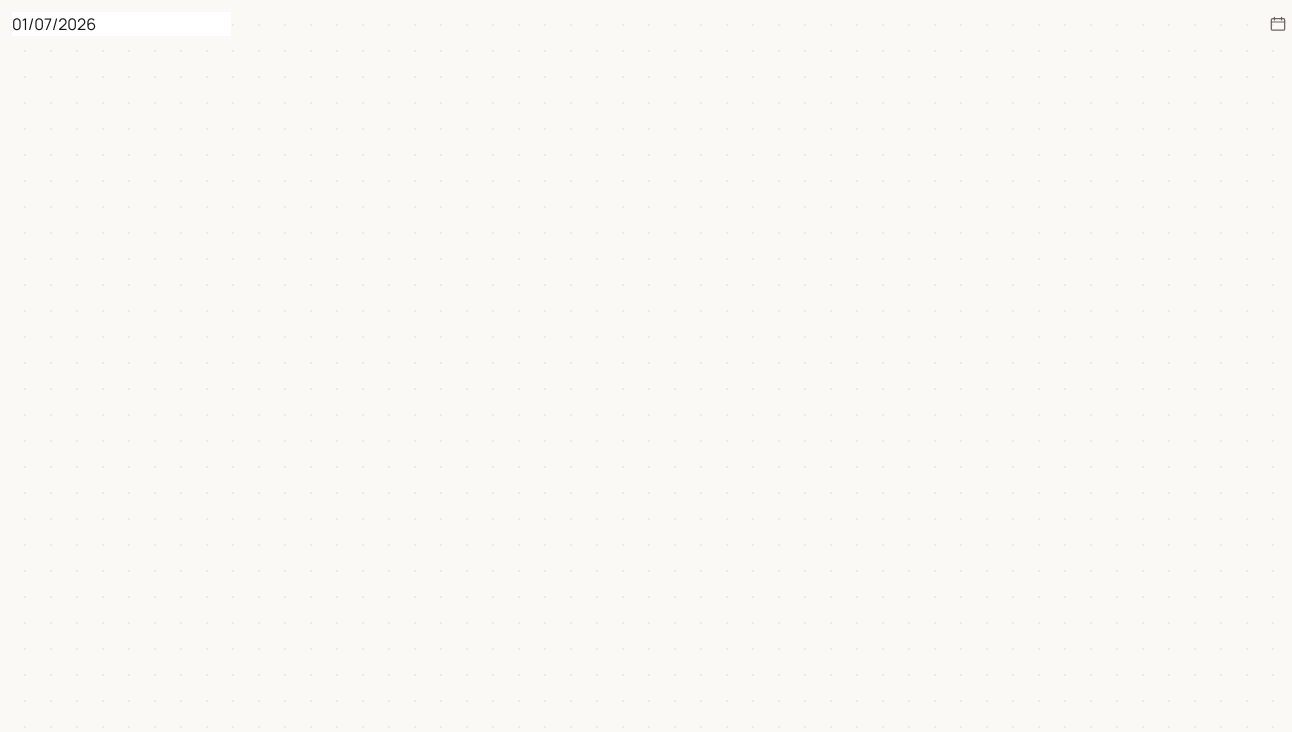
Test case: DateInput › opens a calendar popover with the picker button and commits the clicked day
The width and height of the screenshot is (1292, 732).
Click the button named "Open calendar" at (1278, 24), box left=1270, top=16, right=1286, bottom=32
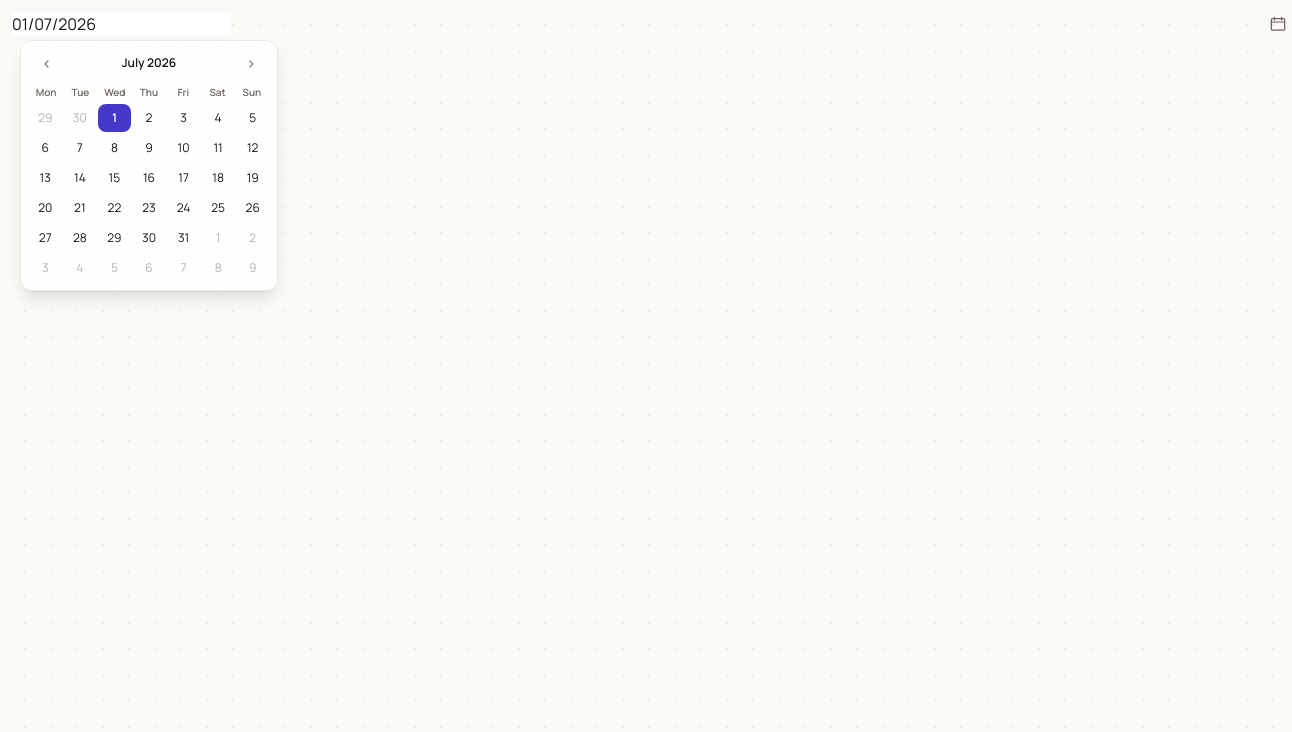
Click the button named "July 15, 2026" at (114, 178), box left=98, top=164, right=131, bottom=192
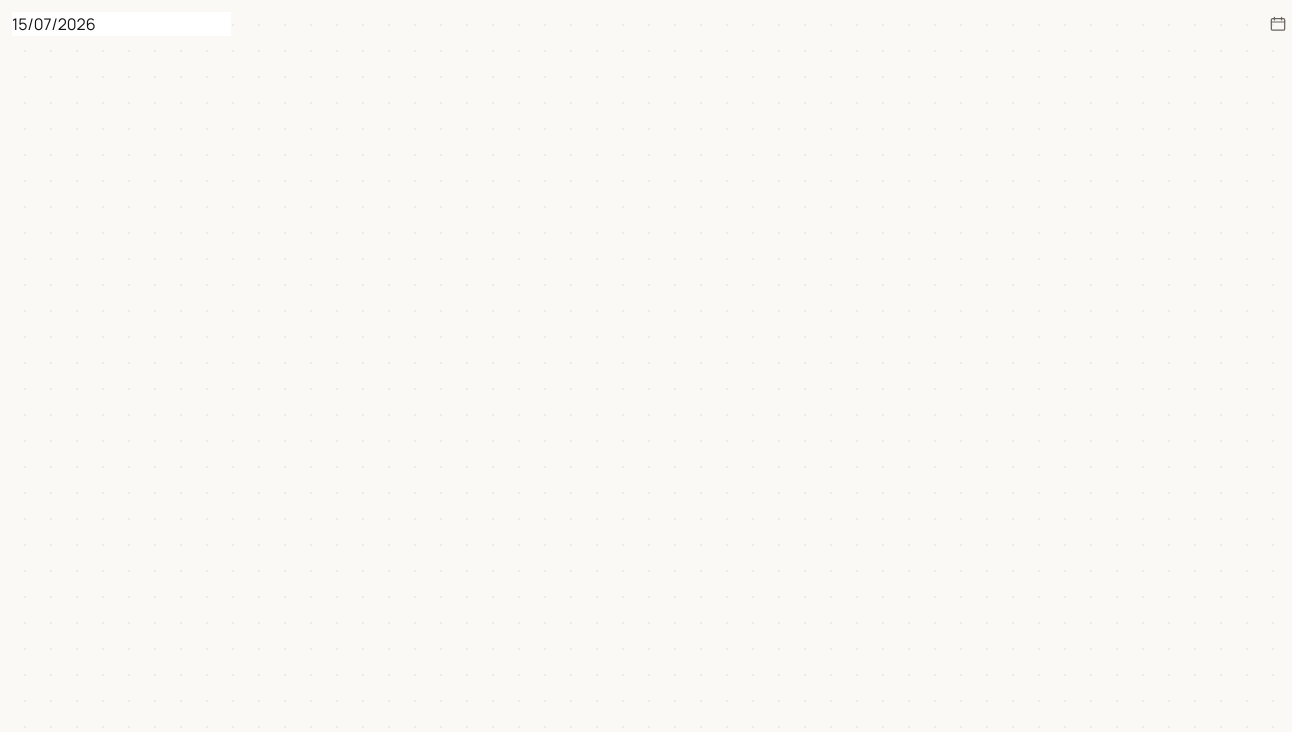
Expected: the field named "Applied date" holds "15/07/2026", left=12, top=12, right=231, bottom=36
